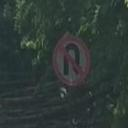NoVirarU: (51, 34, 94, 88)
